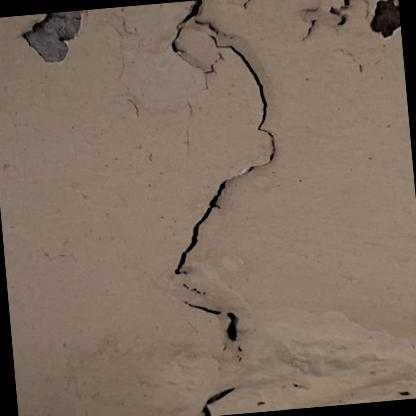crack: (210, 36, 277, 174), (170, 175, 234, 271), (167, 0, 207, 52), (199, 387, 236, 416), (222, 314, 241, 340), (183, 303, 218, 316)
